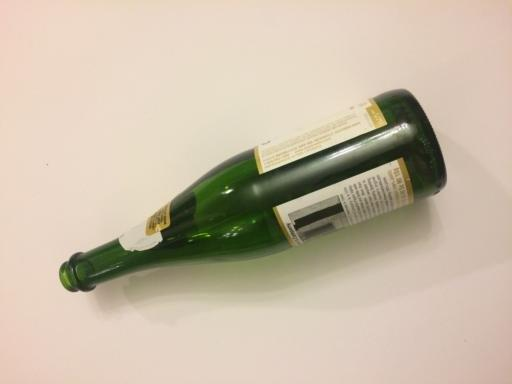botolkaca: (60, 89, 448, 292)
